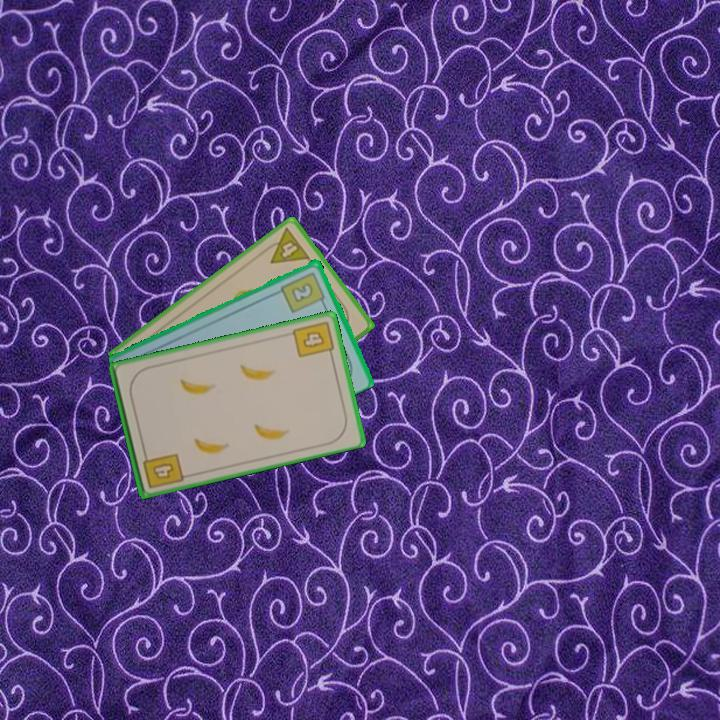2b: (278, 268, 328, 315)
4b: (289, 317, 336, 361), (139, 447, 186, 491)
4p: (259, 224, 313, 267)
